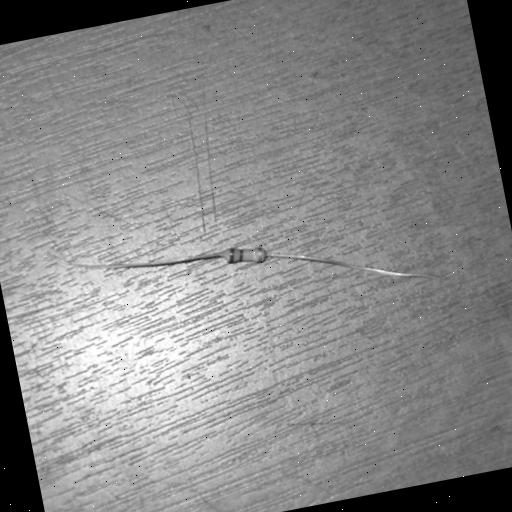RESISTOR: (144, 196, 336, 328)
